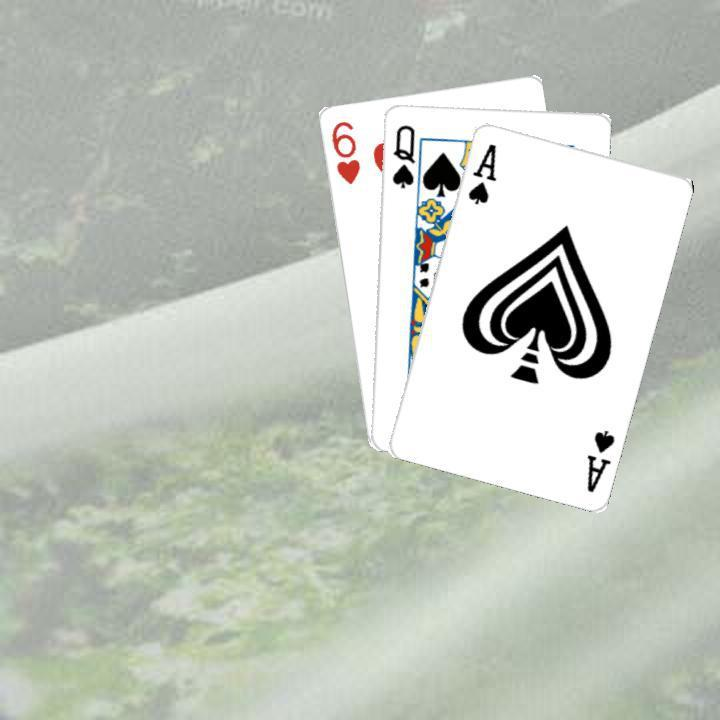6: (326, 116, 362, 186)
A: (582, 425, 617, 494), (463, 138, 498, 206)
Q: (387, 120, 417, 190)
